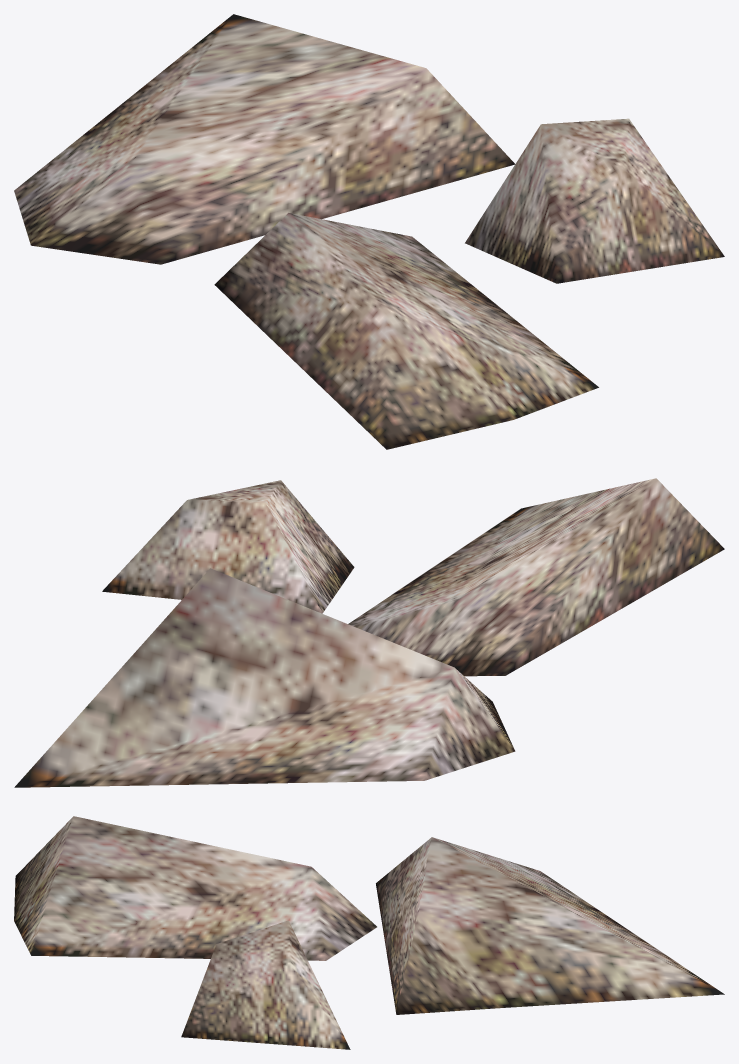
File: invisible_gate_base.glb
3 views of the same model, one above another, from view 1: azimuth 30°, elevation 25°; view 2: azimuth 150°, elevation 25°; view 3: azimuth 270°, elevation 25° (orthographic). The views are drawn at different scales.
Parts seen in each view (by area): view 1: MeshRoot; view 2: MeshRoot; view 3: MeshRoot.
Boxes of the visible parts, x1,y1,x2,y2 form: MeshRoot: [14, 14, 724, 449]; MeshRoot: [14, 478, 724, 787]; MeshRoot: [14, 816, 724, 1049].
Size of the model in its own units: 1.14 by 0.2128 by 1.77.
1 material, 1 textured.
